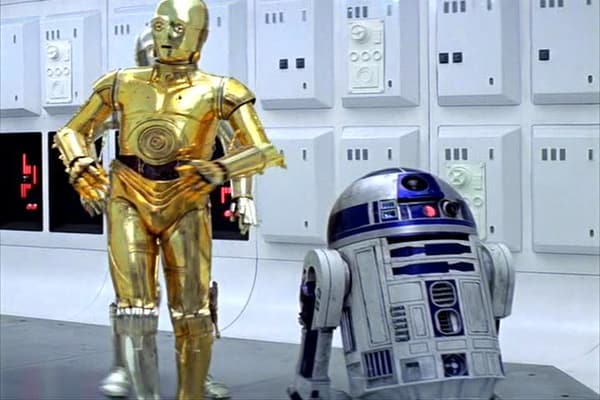r2d2: (286, 167, 517, 400)
